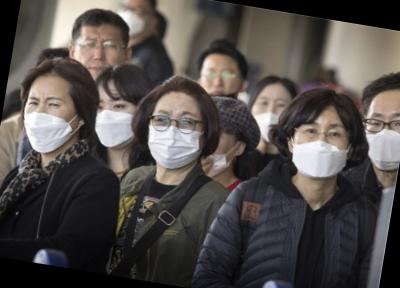with_mask: (288, 115, 357, 187), (143, 103, 207, 170), (20, 90, 82, 158), (90, 92, 143, 153), (359, 106, 400, 172), (248, 92, 294, 146)
without_mask: (68, 28, 127, 86), (196, 59, 246, 103)
